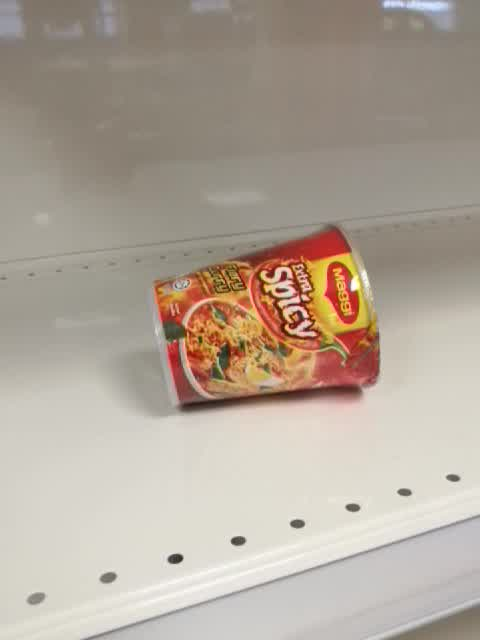maggi: (149, 222, 383, 411)
